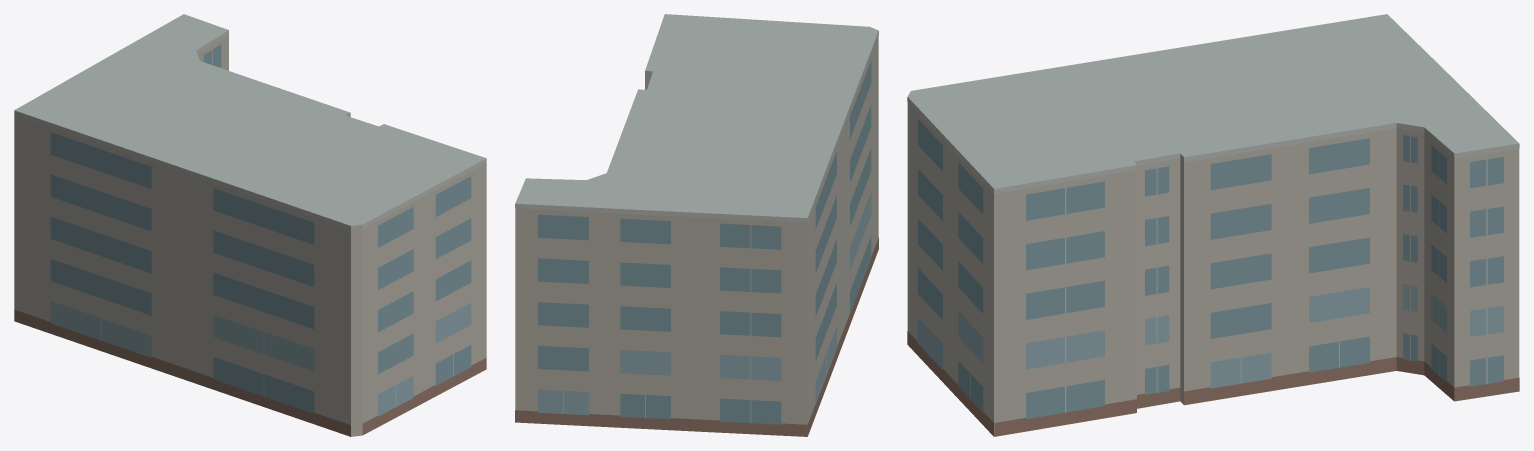
Rendered from survey-upis-33010032.glb.
3 renders of one model, left to right at view 1: azimuth 30°, elevation 25°; view 2: azimuth 150°, elevation 25°; view 3: azimuth 270°, elevation 25°, orthographic. The views are drawn at different scales.
Visible parts, largest first — view 1: survey-upis-33010032.tmp; view 2: survey-upis-33010032.tmp; view 3: survey-upis-33010032.tmp.
Boxes of the visible parts, x1,y1,x2,y2 form: survey-upis-33010032.tmp: [14, 14, 486, 436]; survey-upis-33010032.tmp: [515, 14, 878, 436]; survey-upis-33010032.tmp: [907, 14, 1519, 436].
Size of the model in its own units: 17.34 by 11.45 by 25.63.
